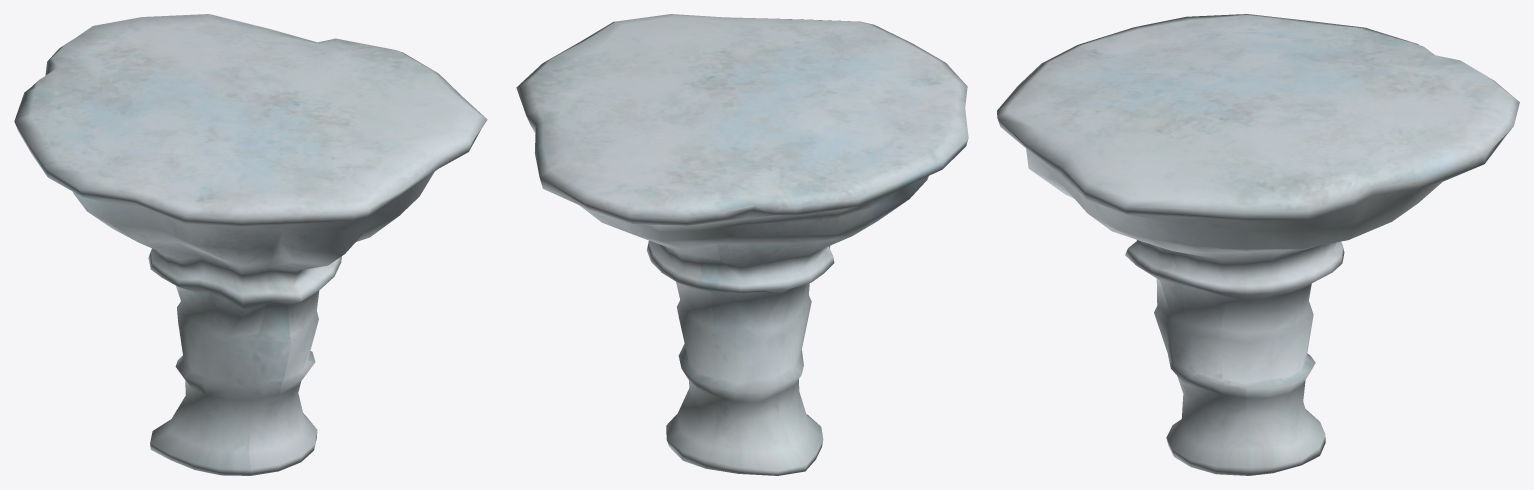
Rendered from P_RockDesert_Layered05.obj.
3 views of the same model, side by side, from view 1: azimuth 30°, elevation 25°; view 2: azimuth 150°, elevation 25°; view 3: azimuth 270°, elevation 25° (orthographic). The views are drawn at different scales.
Size of the model in its own units: 36.01 by 29.96 by 40.23.
